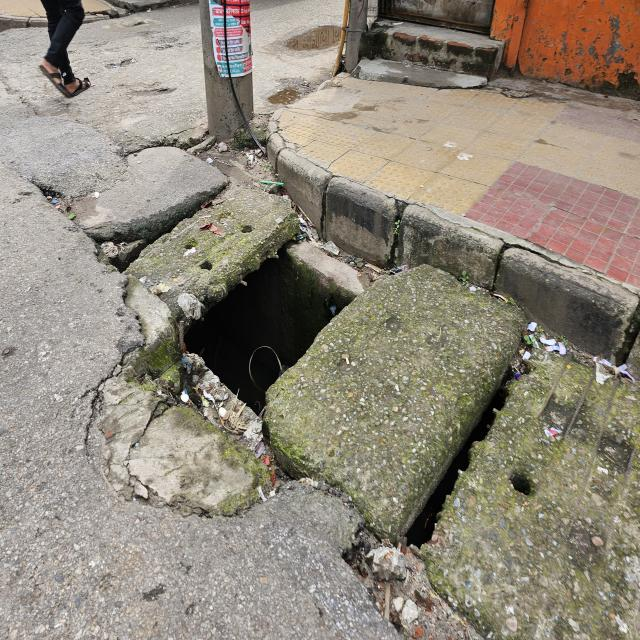drain_inlet: (186, 248, 356, 420)
